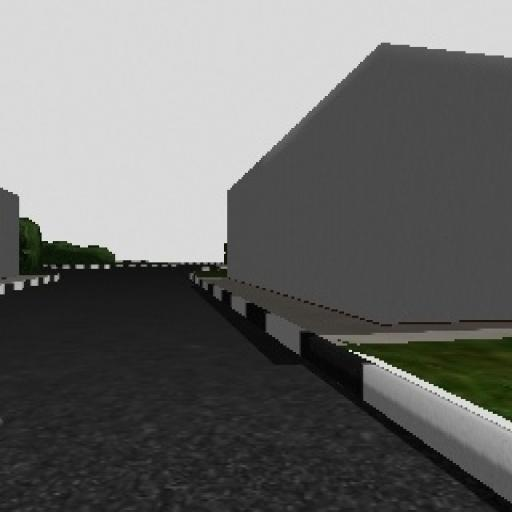huskya200: (0, 410, 6, 434)
